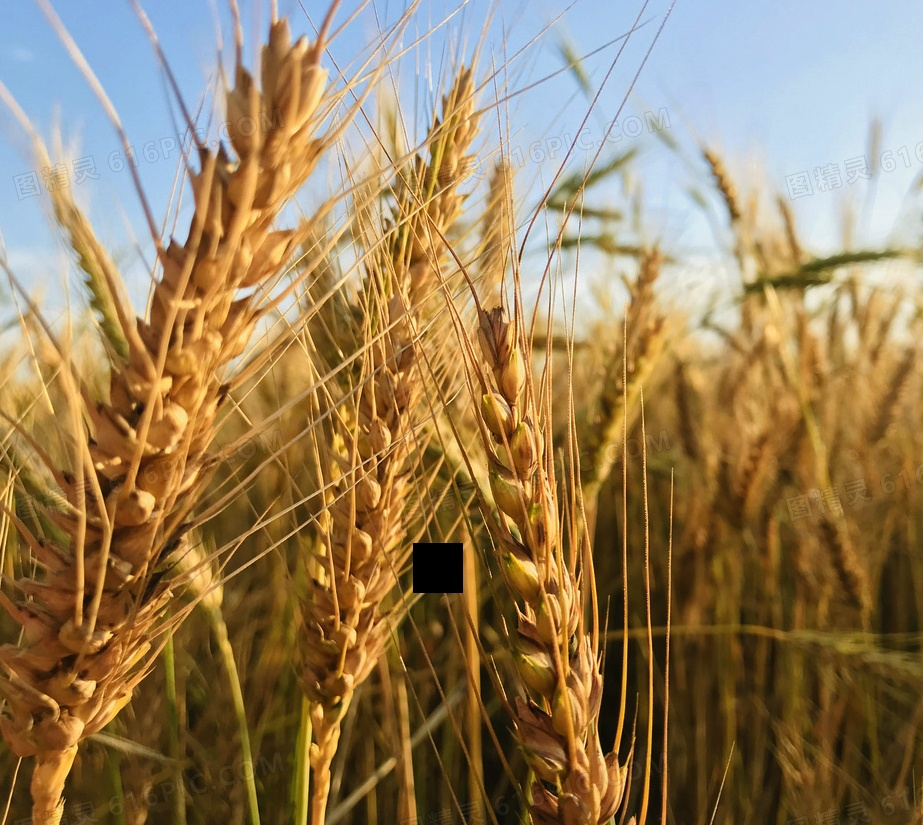wheat: (12, 45, 314, 772), (306, 127, 449, 743), (477, 325, 647, 824)
